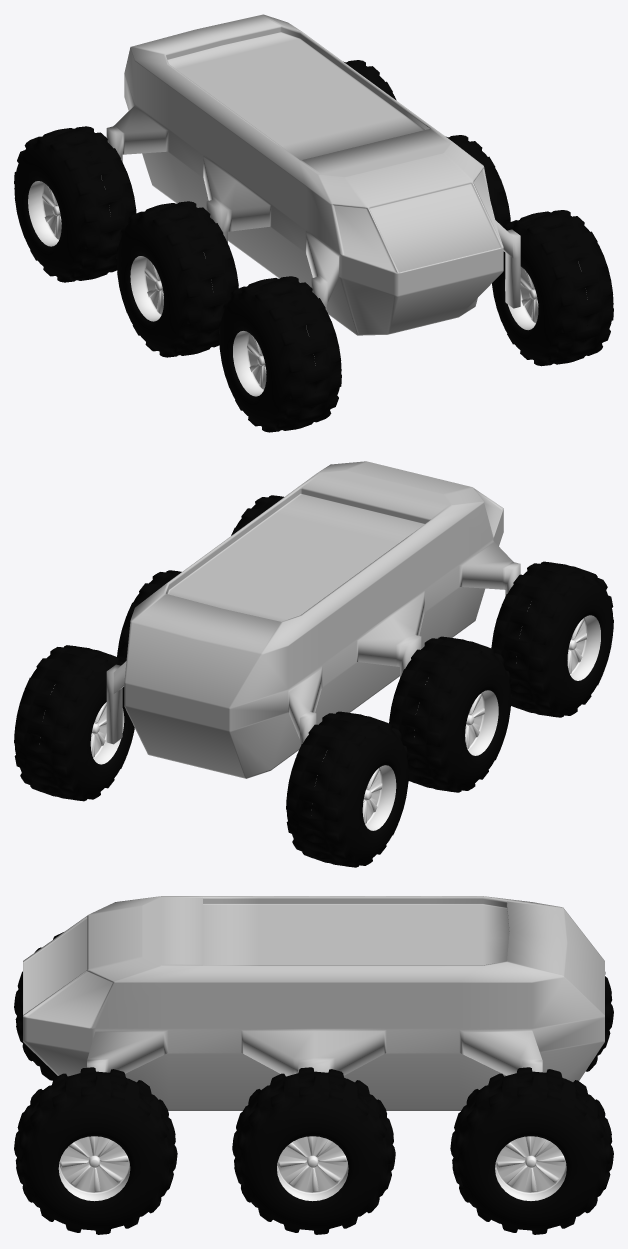
The model's file is MoonRover2.glb.
The picture shows the model from 3 angles, top to bottom: view 1: azimuth 30°, elevation 25°; view 2: azimuth 150°, elevation 25°; view 3: azimuth 270°, elevation 25°; orthographic projection. The views are drawn at different scales.
Visible parts, largest first — view 1: buggy_body, wheel_right_front, wheel_right_middle, wheel_right_rear, wheel_left_front, wheel_left_middle, wheel_left_rear; view 2: buggy_body, wheel_right_rear, wheel_right_front, wheel_right_middle, wheel_left_rear, wheel_left_middle, wheel_left_front; view 3: buggy_body, wheel_left_rear, wheel_left_middle, wheel_left_front, wheel_right_front, wheel_right_rear.
Boxes of the visible parts, box(x1,y1,x2,y2) form: buggy_body: box(106, 14, 520, 335); wheel_right_front: box(219, 276, 341, 432); wheel_right_middle: box(116, 201, 238, 357); wheel_right_rear: box(14, 126, 136, 282); wheel_left_front: box(492, 210, 613, 366); wheel_left_middle: box(446, 135, 510, 226); wheel_left_rear: box(343, 60, 396, 100); buggy_body: box(106, 461, 520, 778); wheel_right_rear: box(286, 711, 408, 867); wheel_right_front: box(491, 561, 613, 717); wheel_right_middle: box(389, 636, 511, 792); wheel_left_rear: box(14, 645, 134, 801); wheel_left_middle: box(117, 570, 181, 662); wheel_left_front: box(231, 495, 283, 535); buggy_body: box(23, 896, 604, 1110); wheel_left_rear: box(450, 1067, 613, 1234); wheel_left_middle: box(232, 1067, 395, 1234); wheel_left_front: box(14, 1067, 177, 1234); wheel_right_front: box(14, 932, 63, 1080); wheel_right_rear: box(586, 972, 613, 1071).
Bounding box in the file's own units: 5.73 × 3.39 × 8.25.
Materials: 2 (2 with a texture image).
